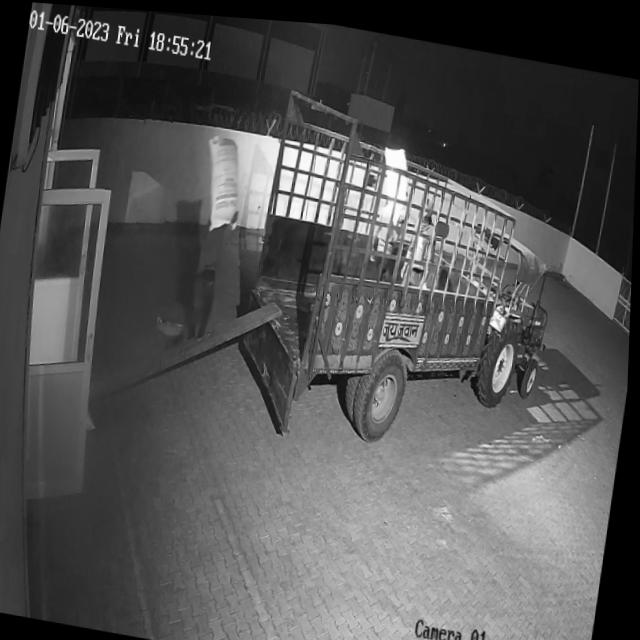sack: (198, 128, 248, 229)
